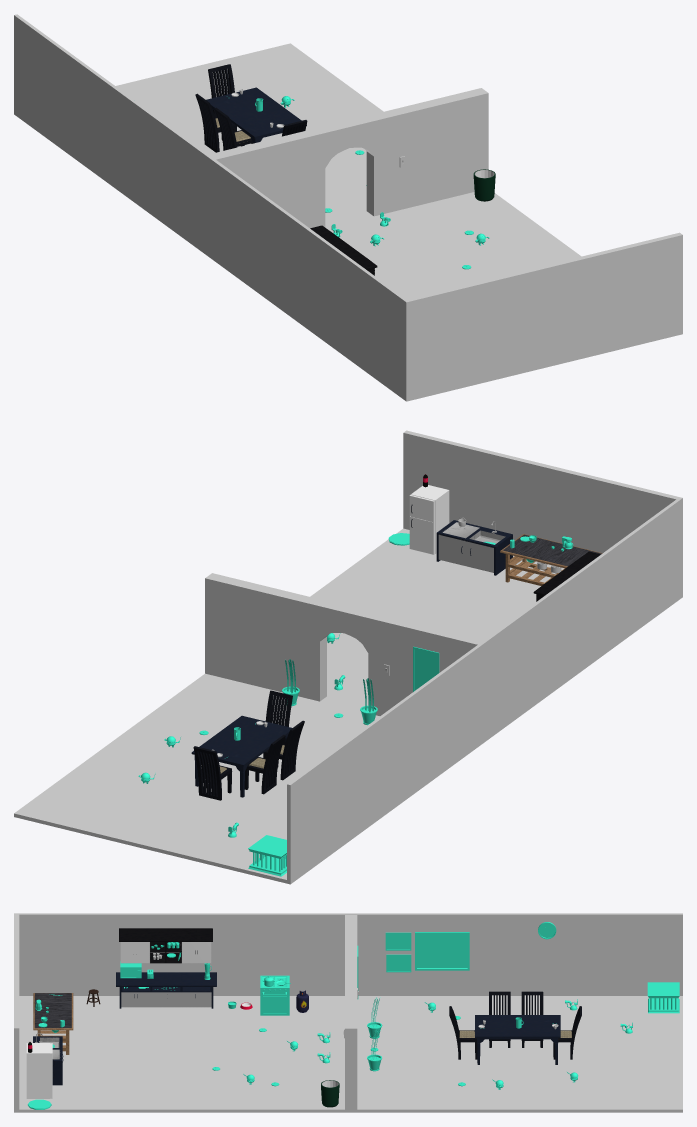
The model's file is Escenario1.fbx.
3 renders of one model, top to bottom at view 1: azimuth 30°, elevation 25°; view 2: azimuth 150°, elevation 25°; view 3: azimuth 270°, elevation 25°, orthographic. The views are drawn at different scales.
Visible parts, largest first — view 1: Box023, Box017, Box026, Box001, Box022, Box025, Tacho; view 2: Box023, Box001 (×2), Box006, Box017, Mueble, Box022, Rectangle001, Box026, Box014, Box025, Box024; view 3: Box023, Box001 (×5), Box017, Box013, Mueble, Rectangle001, Box006, Box026, Box025, Box012, Box024, Box011 (+4 smaller).
Boxes of the visible parts, box(x1,y1,x2,y2) form: Box023: box(14, 14, 682, 401); Box017: box(206, 87, 306, 143); Box026: box(195, 93, 236, 152); Box001: box(310, 225, 377, 275); Box022: box(208, 64, 234, 117); Box025: box(214, 107, 253, 150); Tacho: box(473, 169, 495, 201); Box023: box(14, 430, 682, 884); Box001 (×2): box(409, 485, 600, 601); Box006: box(436, 520, 512, 575); Box017: box(191, 715, 292, 797); Mueble: box(500, 534, 602, 585); Box022: box(193, 746, 232, 800); Rectangle001: box(248, 835, 286, 876); Box026: box(244, 734, 285, 794); Box014: box(413, 646, 439, 691); Box025: box(263, 720, 304, 780); Box024: box(265, 690, 292, 744); Box023: box(14, 913, 682, 1112); Box001 (×5): box(26, 928, 289, 1098); Box017: box(475, 1015, 560, 1064); Box013: box(415, 932, 469, 970); Mueble: box(33, 993, 73, 1054); Rectangle001: box(647, 982, 679, 1013); Box006: box(33, 1033, 63, 1085); Box026: box(521, 991, 543, 1047); Box025: box(489, 991, 510, 1047); Box012: box(385, 932, 411, 950); Box024: box(449, 1006, 477, 1059); Box011: box(386, 954, 411, 972).
Size of the model in its own units: 226 by 77.48 by 555.
